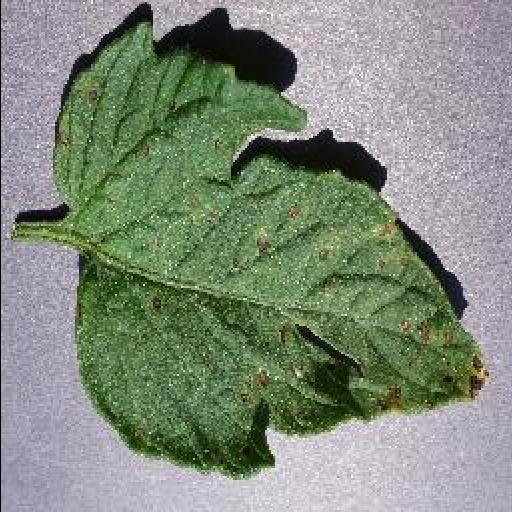disease_tomato: (54, 17, 488, 479)
